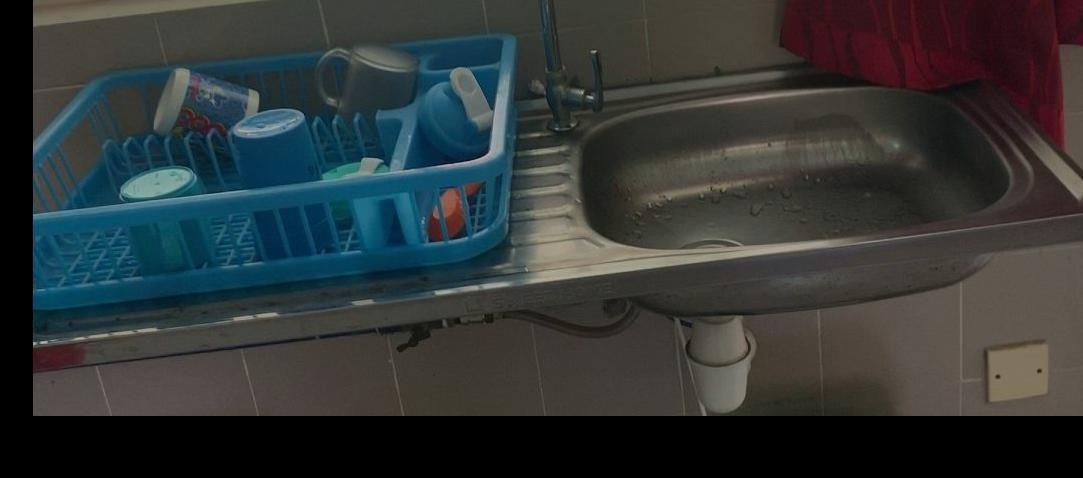Lavaplatos: (517, 0, 1083, 293)
